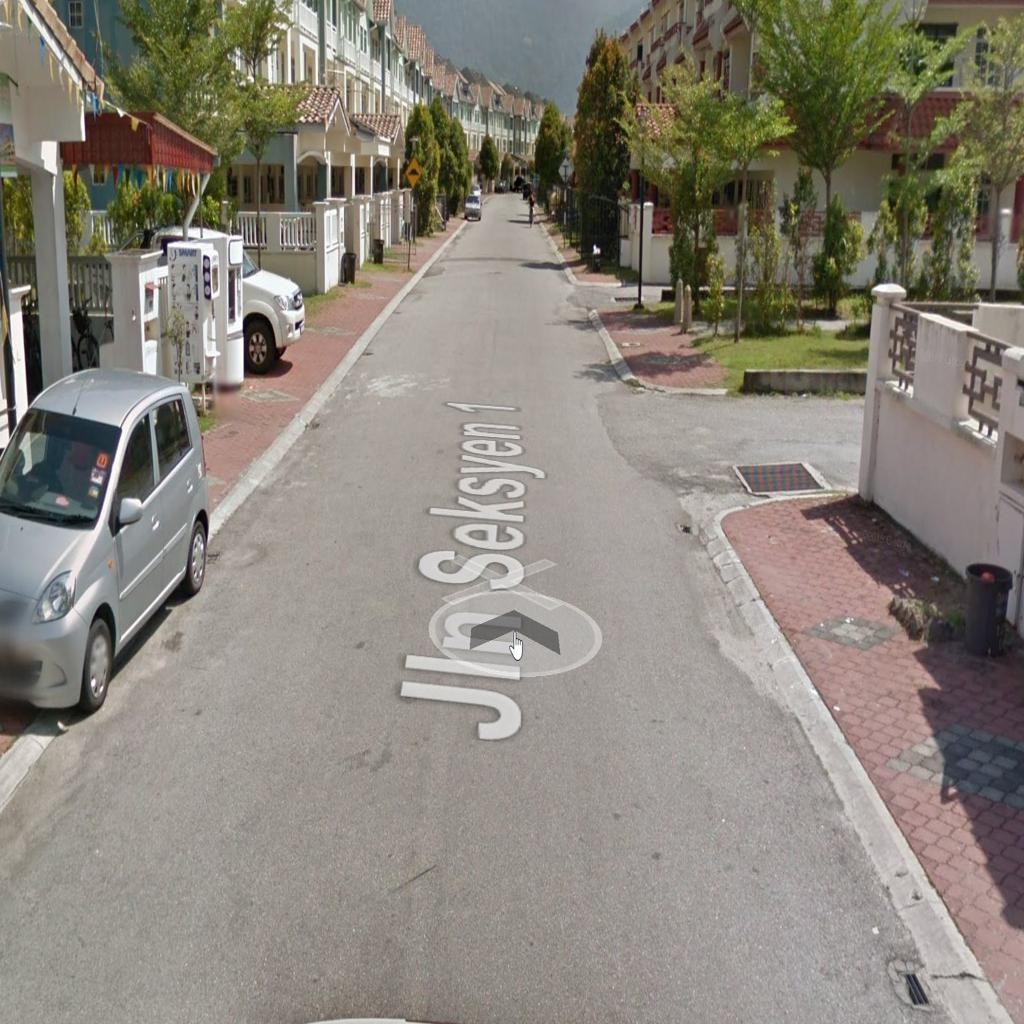Junction: (605, 353, 848, 544)
